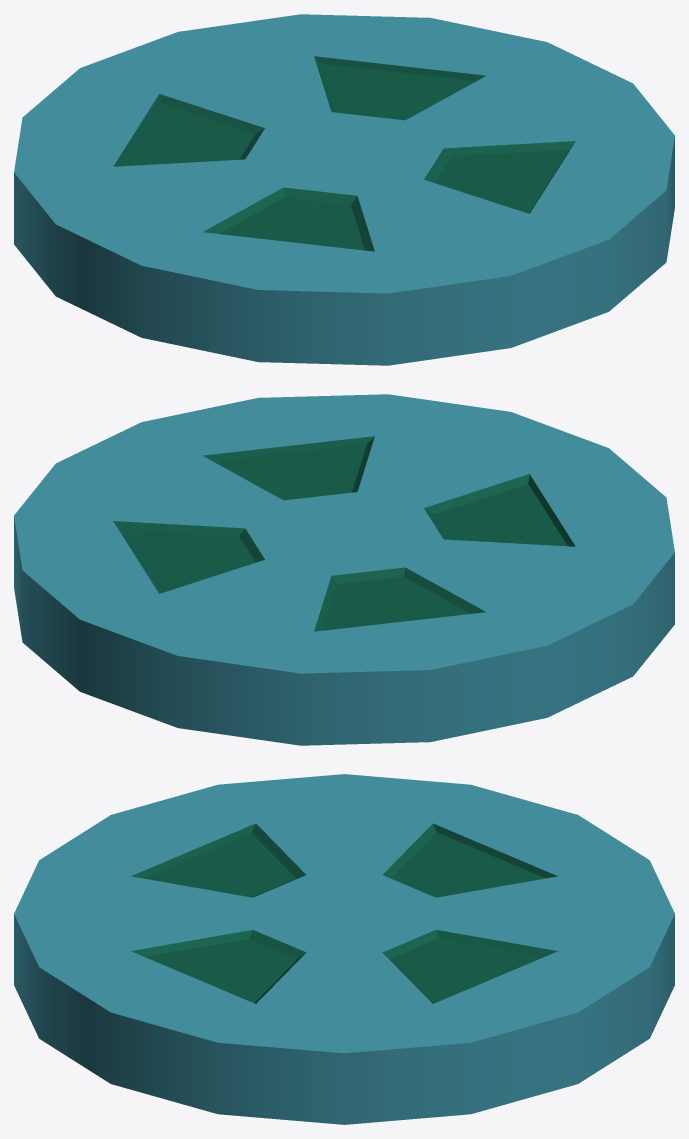
Rendered from Reel.fbx.
The picture shows the model from 3 angles, top to bottom: view 1: azimuth 30°, elevation 25°; view 2: azimuth 150°, elevation 25°; view 3: azimuth 270°, elevation 25°; orthographic projection.
Parts seen in each view (by area): view 1: Reel; view 2: Reel; view 3: Reel.
Part boxes in pixels (box(x1,y1,x2,y2)): Reel: box(14, 14, 674, 365); Reel: box(14, 394, 674, 745); Reel: box(14, 774, 674, 1124).
Size of the model in its own units: 1.97 by 0.2353 by 1.97.
